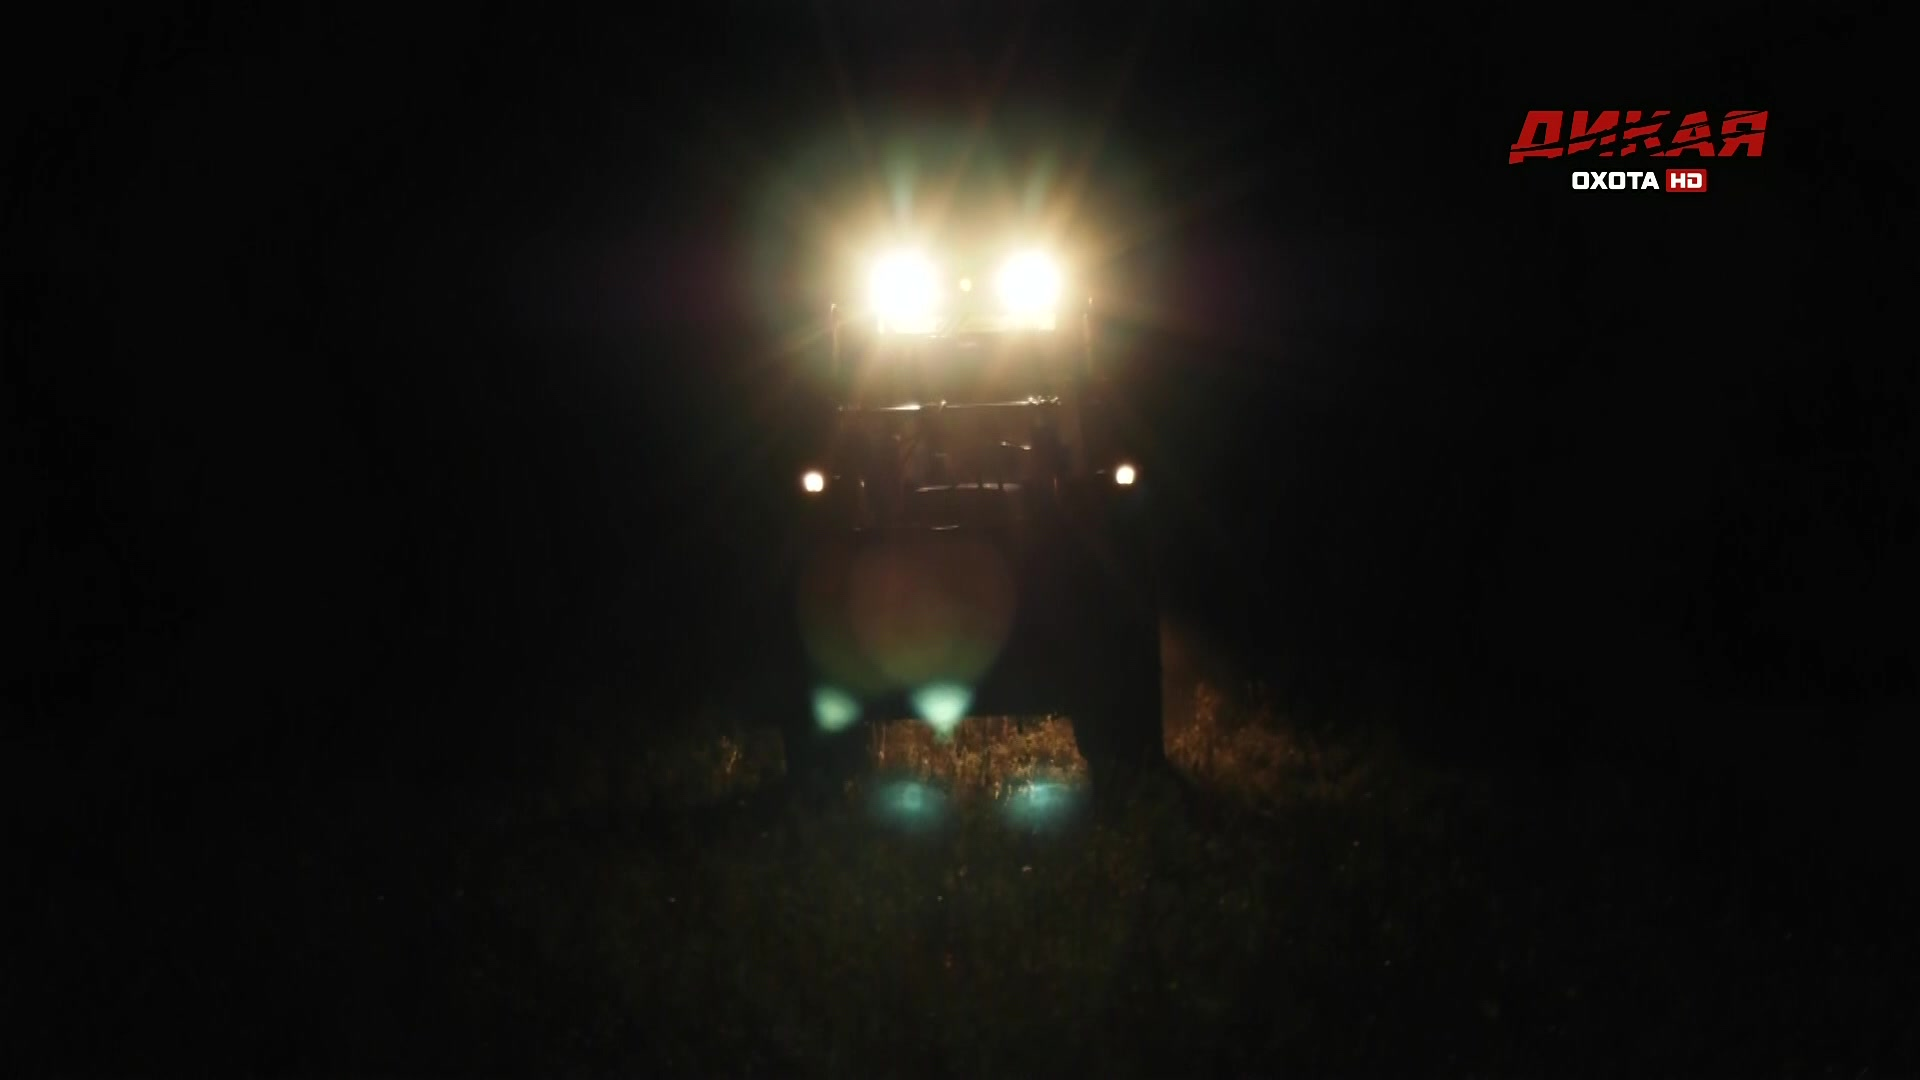Dikaya_Ohota_HD: (1506, 105, 1774, 195)
